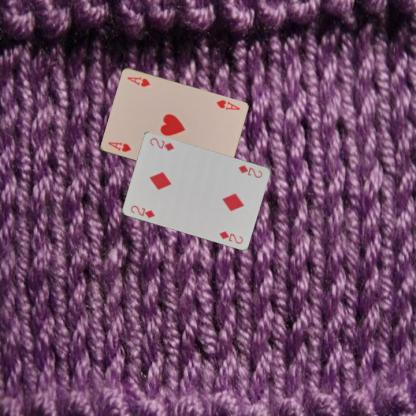2d: (128, 203, 157, 219), (236, 162, 263, 179)
Ah: (105, 139, 132, 153), (214, 98, 241, 112)
